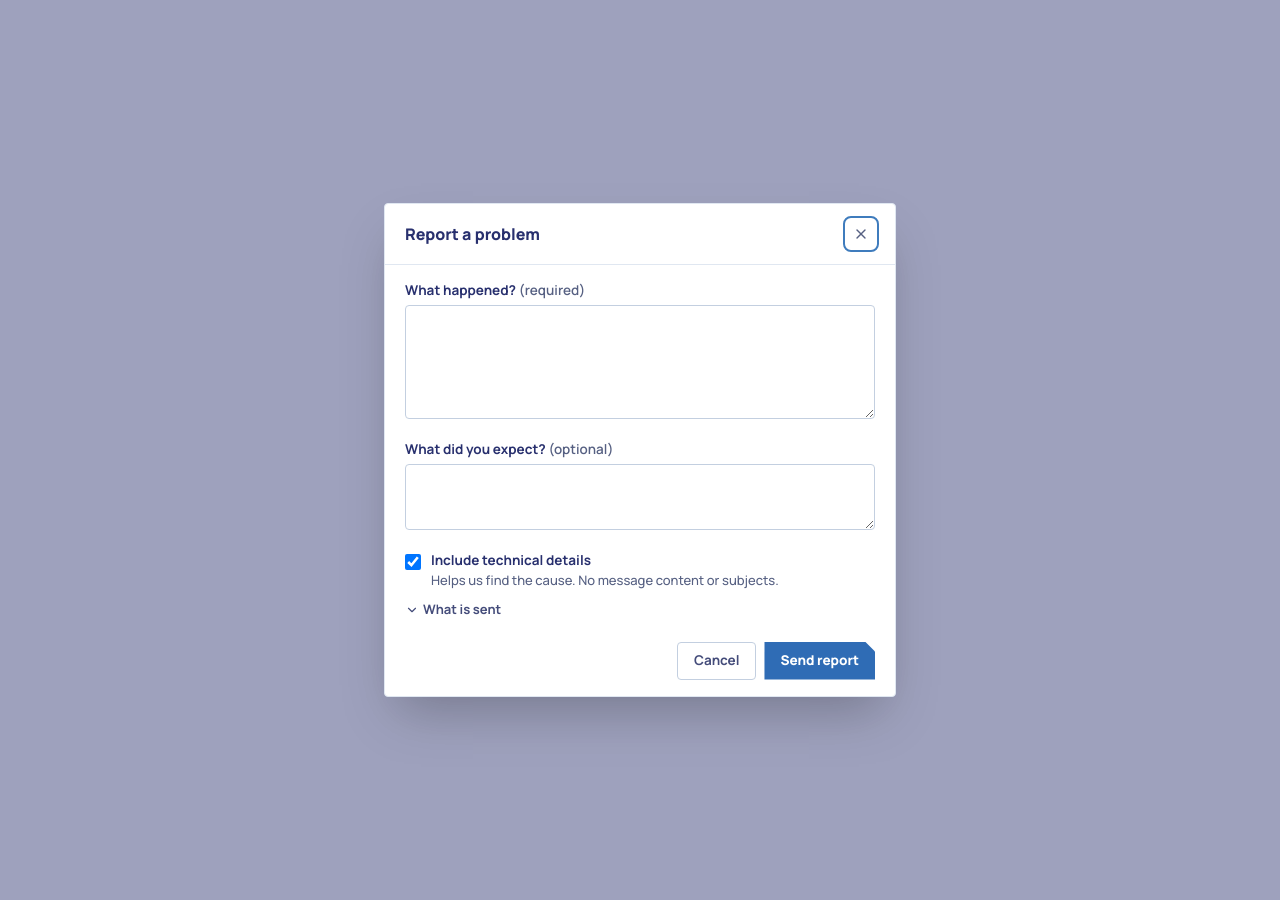
Test: Report a problem form › sends the report with details, then thanks the person
In the text box labelled "What happened? (required)": (640, 362) top-left (405, 305), bottom-right (875, 419), type "The list is empty"
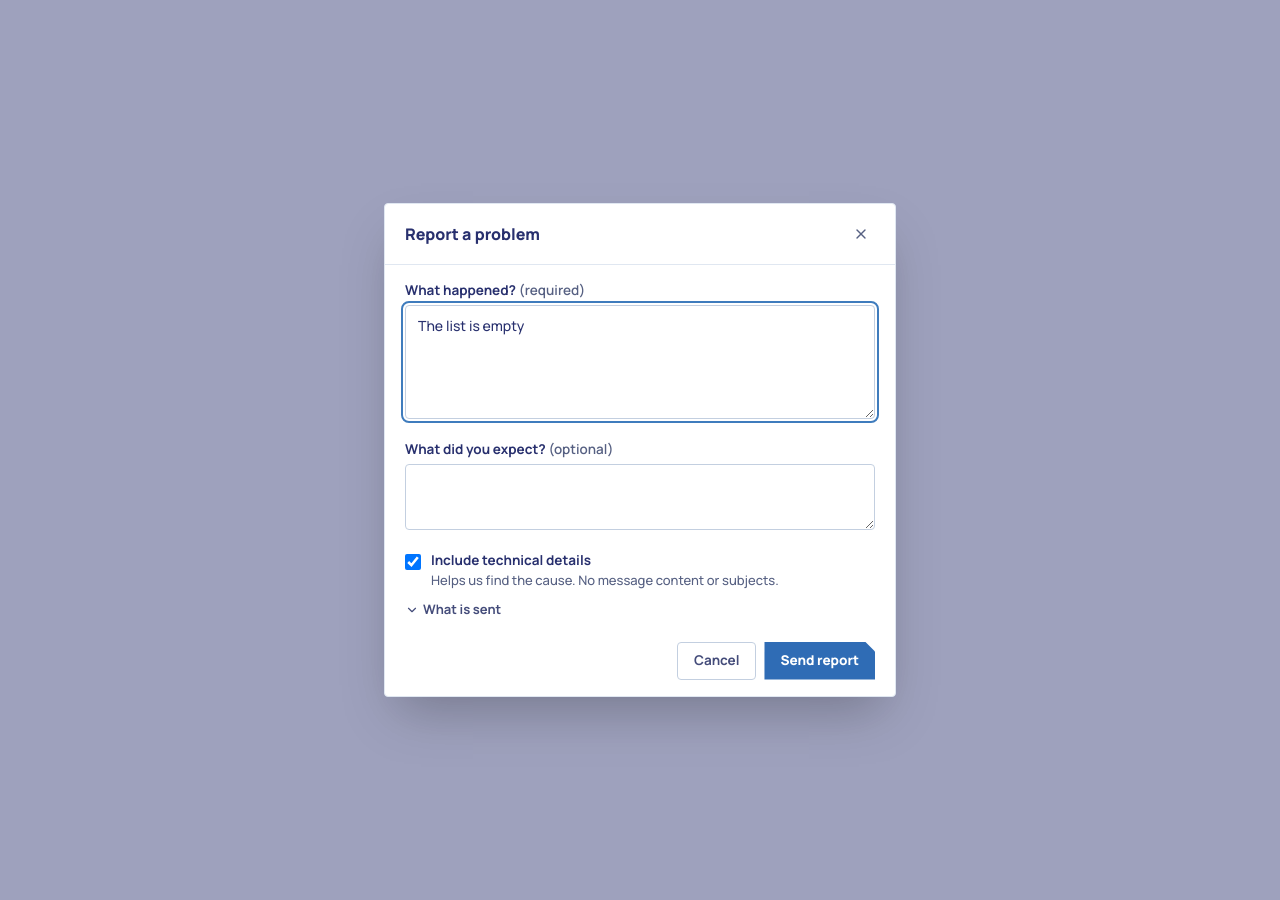
In the text box labelled "What did you expect? (optional)": (640, 497) top-left (405, 464), bottom-right (875, 530), type "My mail"
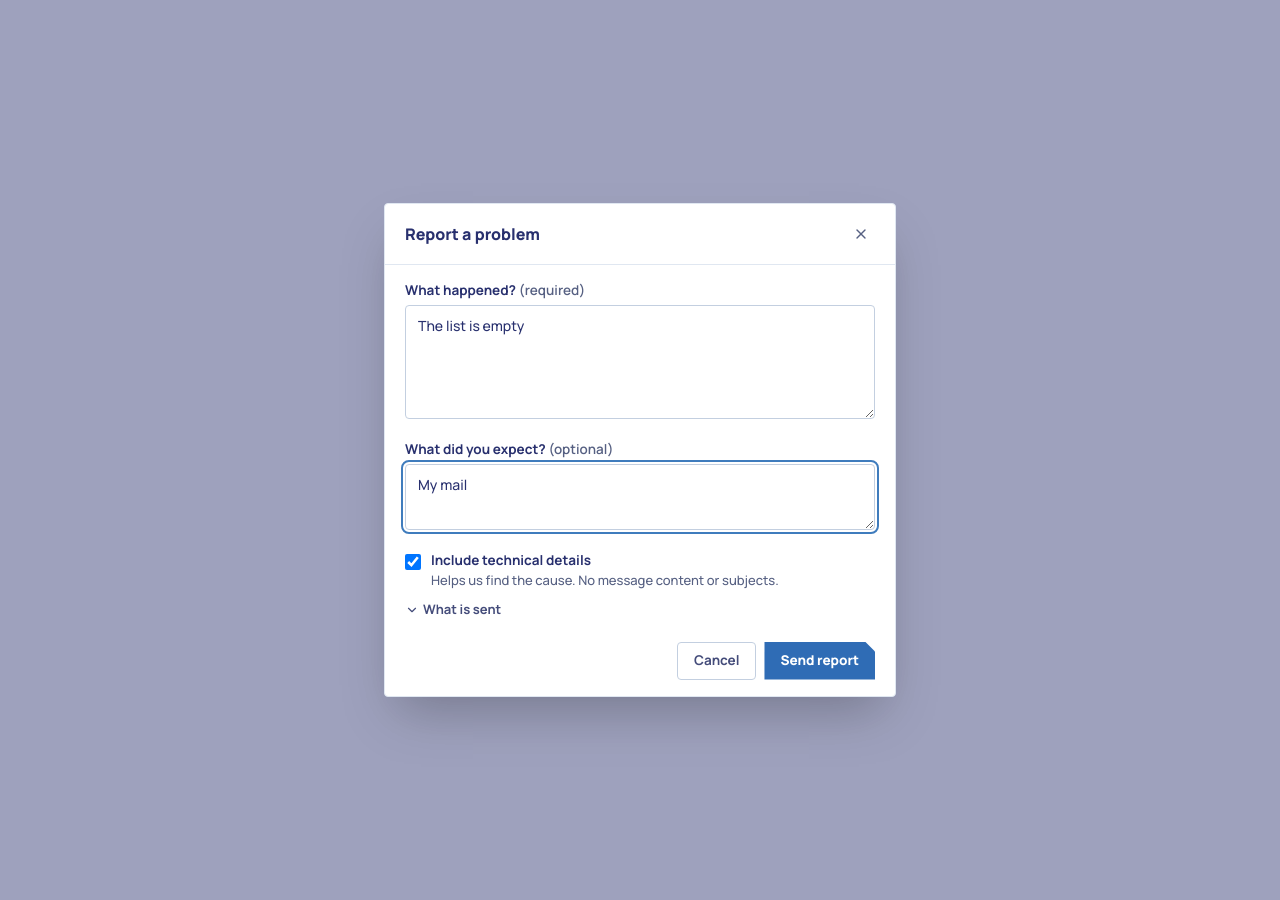
Click the button "Send report": (820, 661) top-left (764, 642), bottom-right (875, 680)
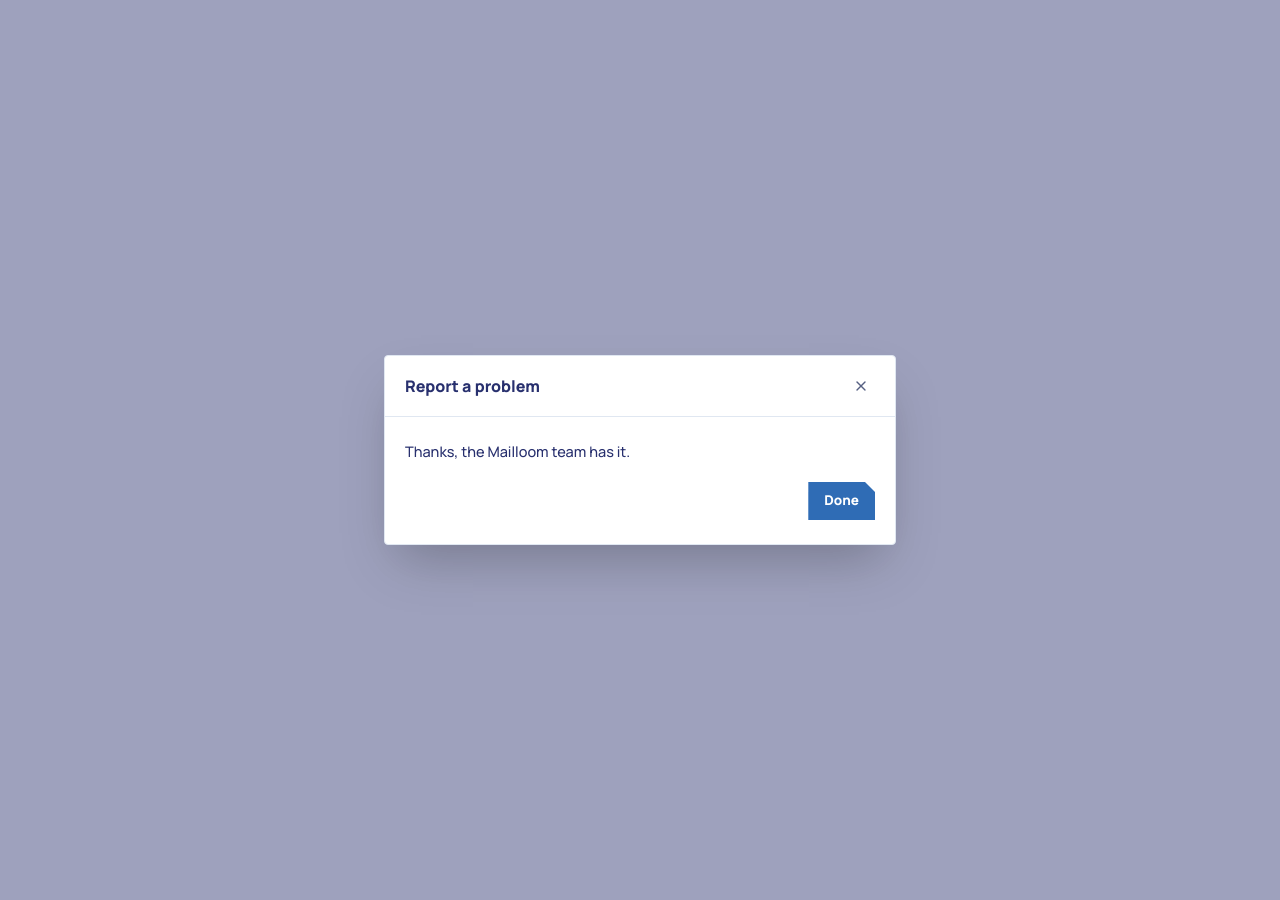
Check: the message shows "the Mailloom team has it", box top-left (405, 442), bottom-right (630, 461)
